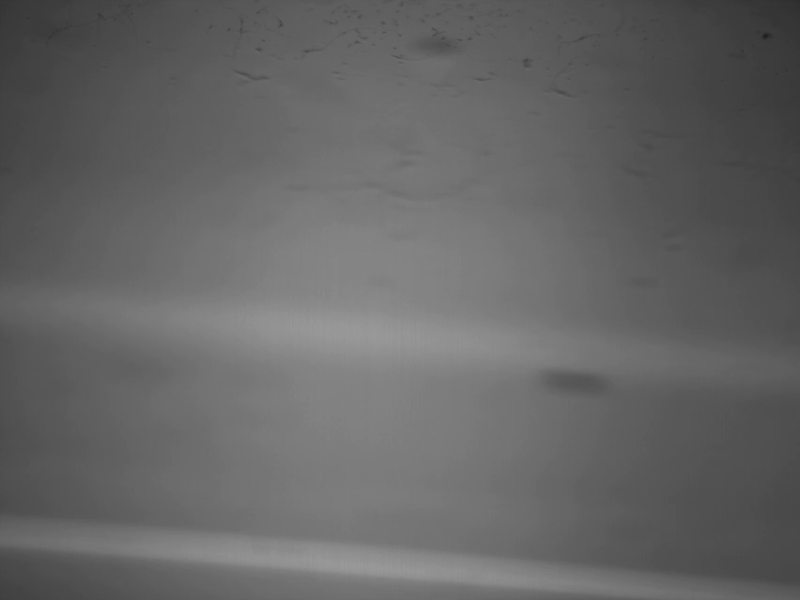bead: (530, 360, 608, 404)
